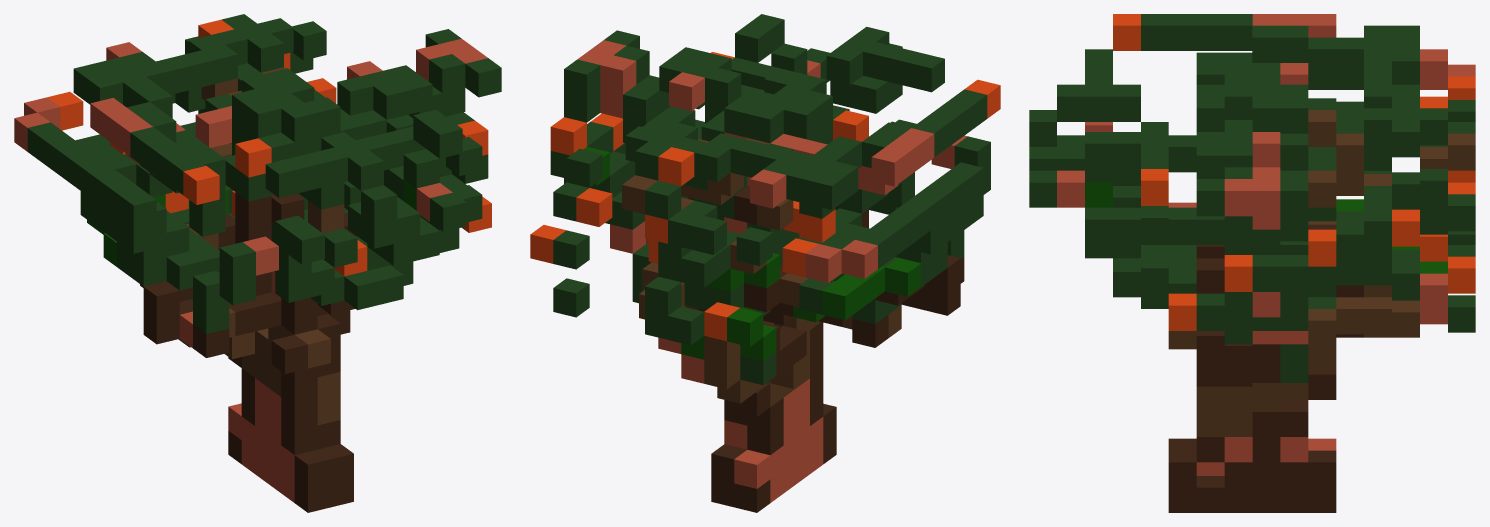
The model's file is Jesica_Alejandra_Piñeros_Garcia_fase_3.obj.
The picture shows the model from 3 angles, left to right: view 1: azimuth 30°, elevation 25°; view 2: azimuth 150°, elevation 25°; view 3: azimuth 270°, elevation 25°; orthographic projection. The views are drawn at different scales.
Visible parts, largest first — view 1: Jesica_Alejandra_Piñeros_Garcia_fase_3; view 2: Jesica_Alejandra_Piñeros_Garcia_fase_3; view 3: Jesica_Alejandra_Piñeros_Garcia_fase_3.
Part boxes in pixels (bbox=[...]): Jesica_Alejandra_Piñeros_Garcia_fase_3: bbox=[14, 14, 501, 512]; Jesica_Alejandra_Piñeros_Garcia_fase_3: bbox=[530, 14, 1000, 512]; Jesica_Alejandra_Piñeros_Garcia_fase_3: bbox=[1029, 14, 1475, 512].
Size of the model in its own units: 16 by 16 by 16.
1 material, 1 textured.
